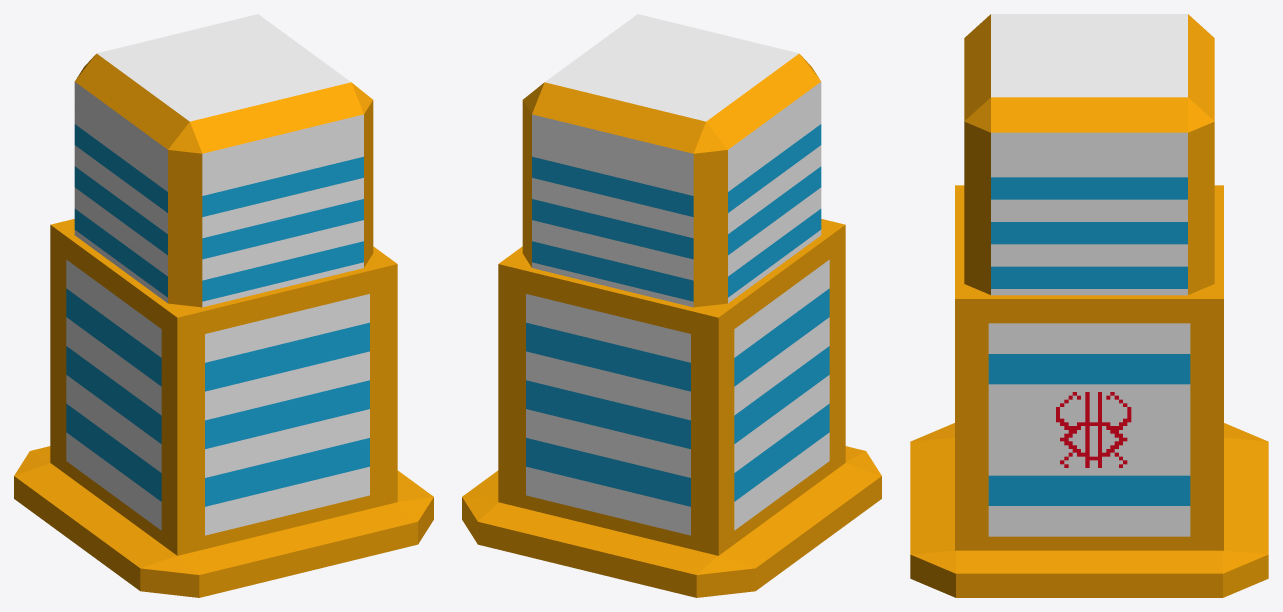
Rendered from Space_Office_Lvl_2.fbx.
3 views of the same model, side by side, from view 1: azimuth 30°, elevation 25°; view 2: azimuth 150°, elevation 25°; view 3: azimuth 270°, elevation 25° (orthographic). The views are drawn at different scales.
Visible parts, largest first — view 1: Cube; view 2: Cube; view 3: Cube.
Part boxes in pixels (x1,y1,x2,y2): Cube: (14,14,433,597); Cube: (462,14,881,597); Cube: (910,14,1268,597).
Bounding box in the file's own units: 200 × 290 × 200.
